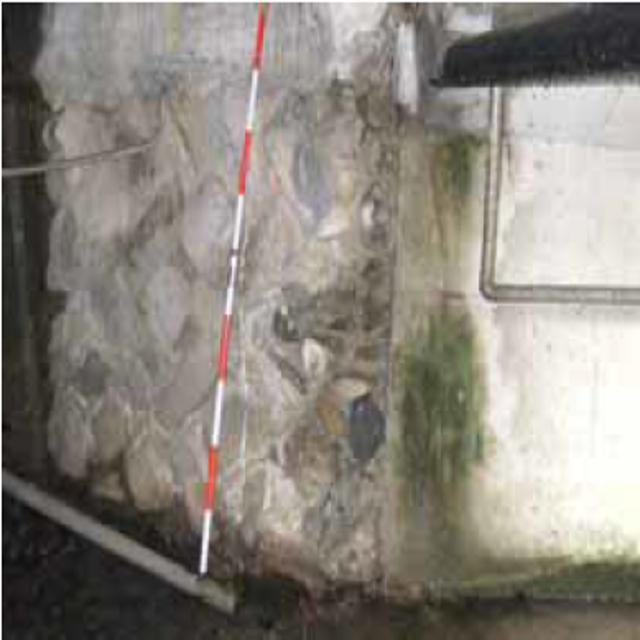spalling: (38, 53, 476, 604)
